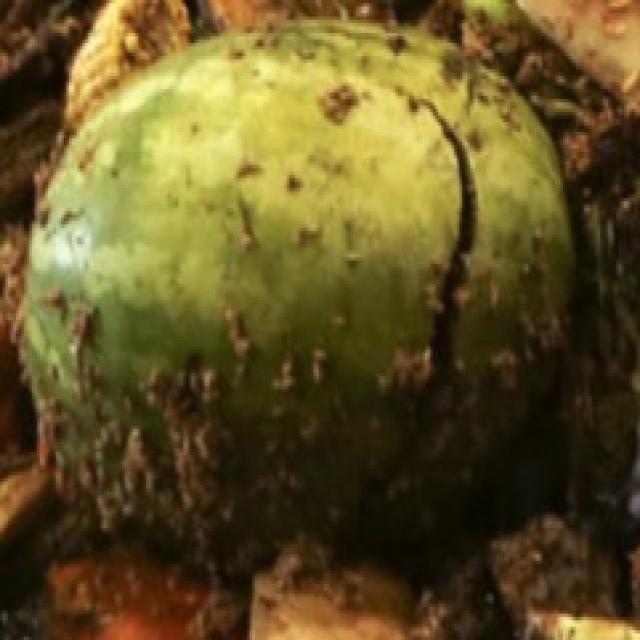food waste: (25, 0, 640, 564)
